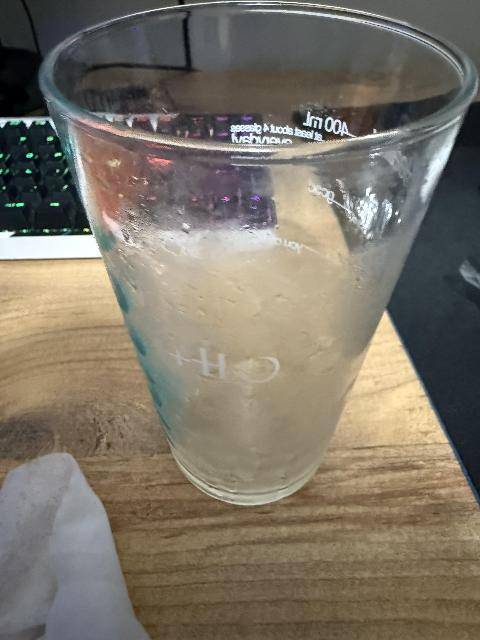Cam: (43, 0, 479, 504)
